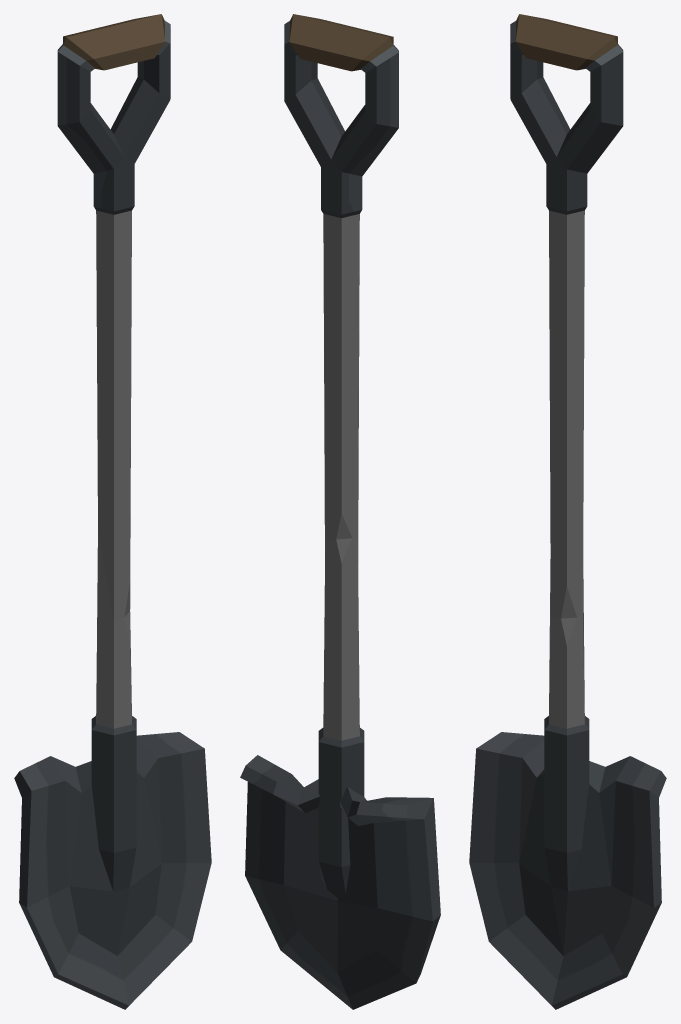
Rendered from SM_Gen_Wep_Spade_01.glb.
3 views of the same model, side by side, from view 1: azimuth 30°, elevation 25°; view 2: azimuth 150°, elevation 25°; view 3: azimuth 330°, elevation 25° (orthographic).
Parts seen in each view (by area): view 1: SM_Gen_Wep_Spade_01; view 2: SM_Gen_Wep_Spade_01; view 3: SM_Gen_Wep_Spade_01.
Part boxes in pixels (left/top/right/bottom): SM_Gen_Wep_Spade_01: left=14, top=14, right=211, bottom=1009; SM_Gen_Wep_Spade_01: left=240, top=14, right=440, bottom=1009; SM_Gen_Wep_Spade_01: left=469, top=14, right=666, bottom=1009.
Bounding box in the file's own units: 0.223 × 1.13 × 0.0878.
Materials: 1 (1 with a texture image).
